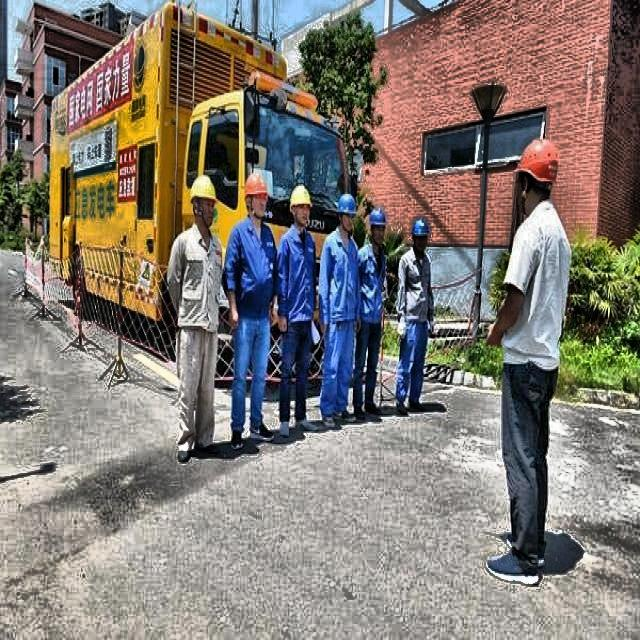person: (492, 137, 578, 586), (175, 178, 221, 465), (230, 172, 276, 442), (280, 178, 322, 440), (396, 212, 436, 422), (328, 188, 358, 430), (360, 208, 390, 418)
